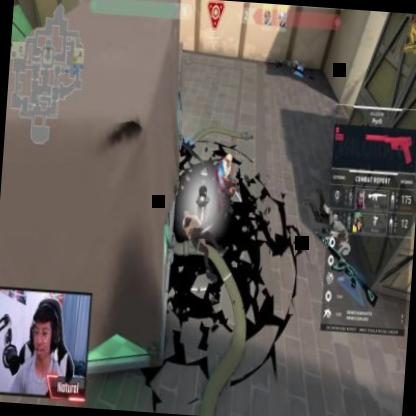enemy: (212, 152, 238, 218)
enemy_head: (224, 153, 232, 169)
